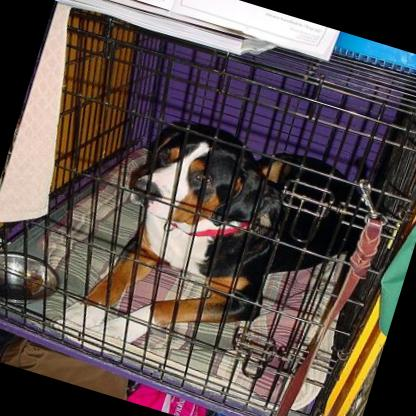Greater_Swiss_Mountain_dog: (51, 94, 393, 416)
